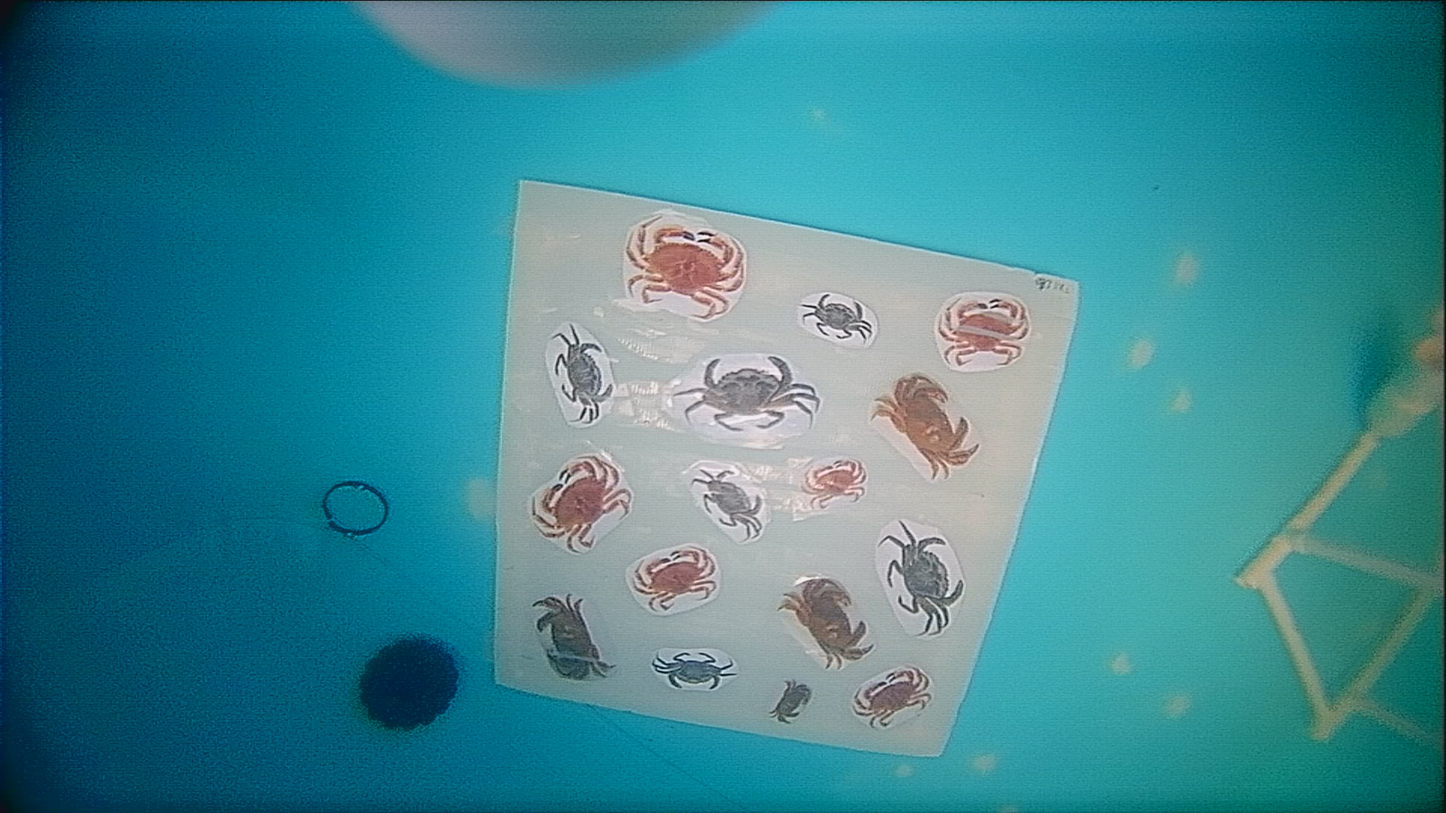GreenCrab: (678, 355, 821, 431), (883, 521, 963, 633), (554, 324, 612, 423), (801, 294, 871, 340)
